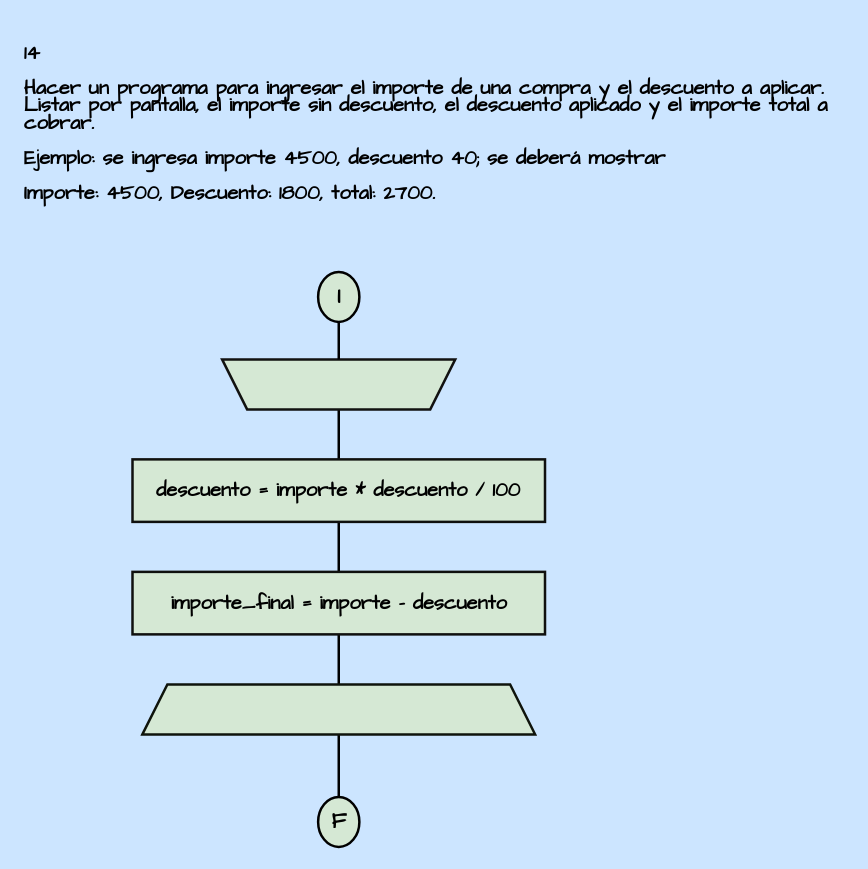
Image size: 868x869. Some labels were removed from this diagram. Here are the shapes that lost their labels. From the top down, the centre of each, then its label:
At [338,384]: "importe, descuento".
At [338,708]: "importe, descuento, importe_final".
